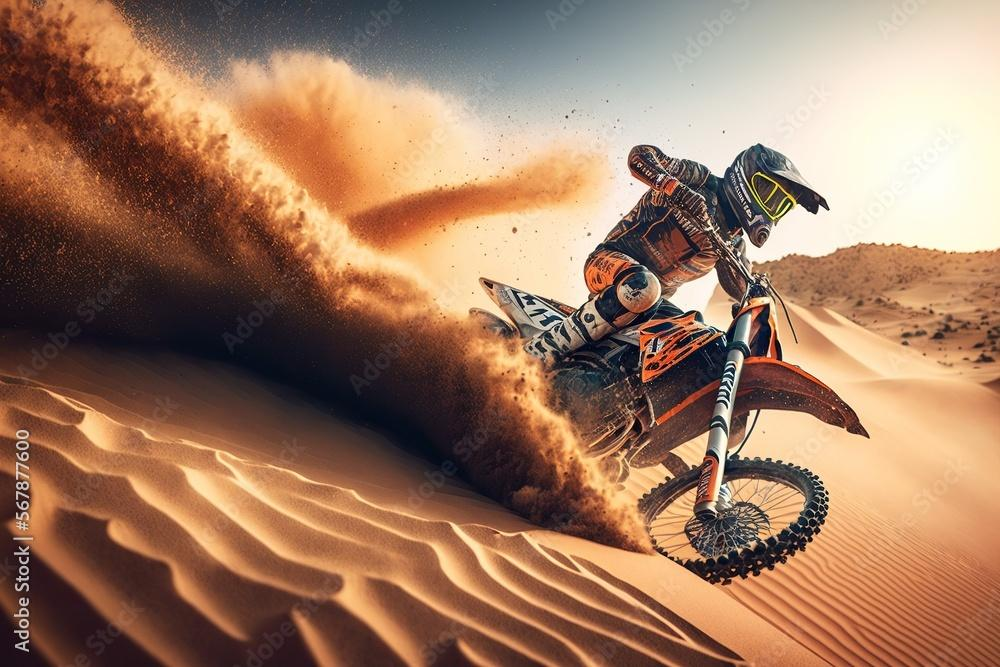helmet: (722, 142, 831, 249)
